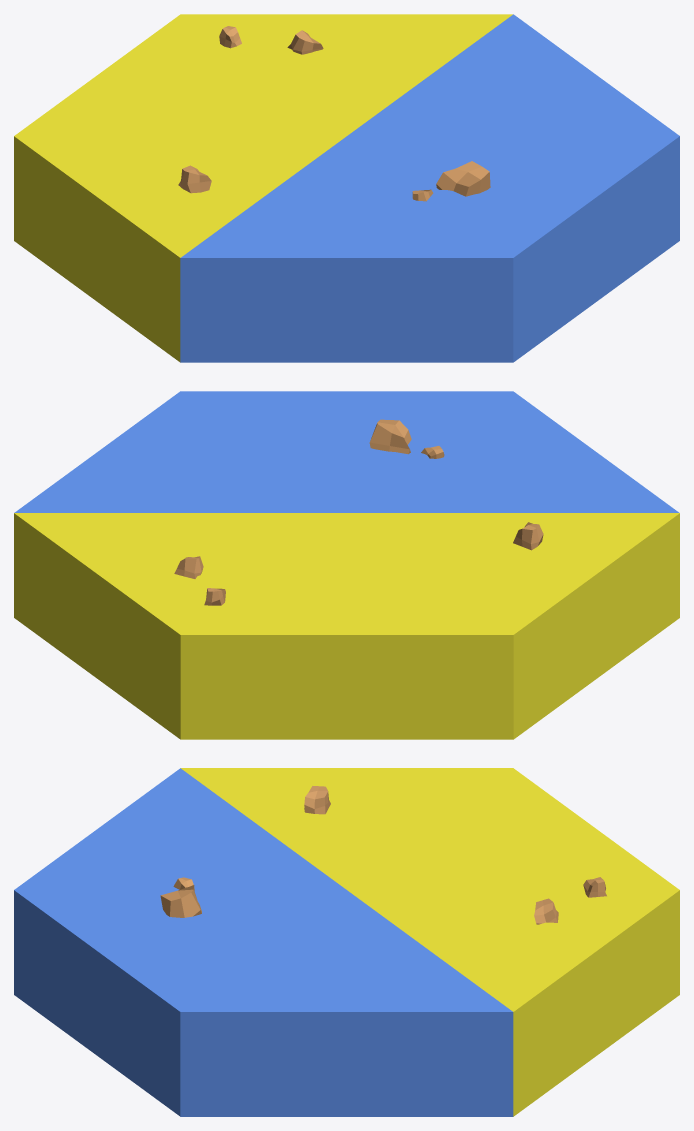
The model's file is BeachShore.fbx.
3 renders of one model, top to bottom at view 1: azimuth 30°, elevation 25°; view 2: azimuth 150°, elevation 25°; view 3: azimuth 270°, elevation 25°, orthographic.
Visible parts, largest first — view 1: BeachShore; view 2: BeachShore; view 3: BeachShore.
Part boxes in pixels (x1,y1,x2,y2): BeachShore: (14,14,679,362); BeachShore: (14,391,679,739); BeachShore: (14,768,679,1116).
Size of the model in its own units: 1 by 0.2397 by 1.15.
